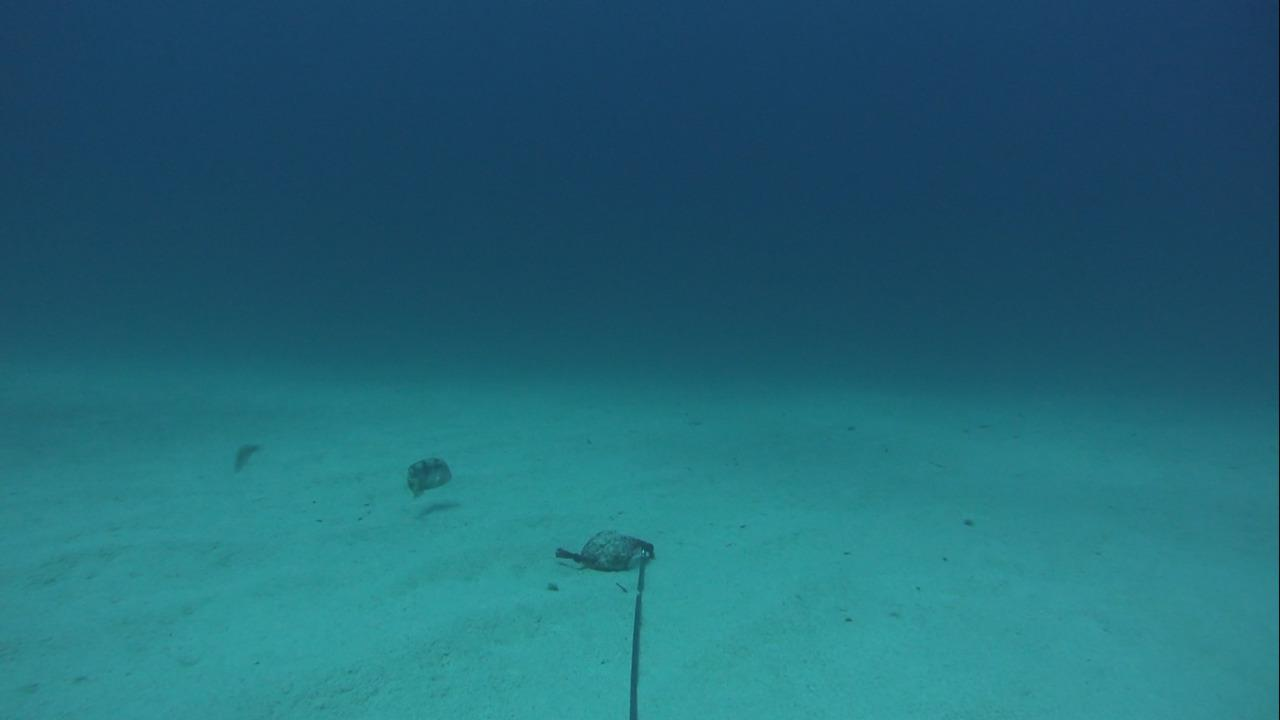raor: (399, 447, 458, 501), (229, 437, 265, 471)
